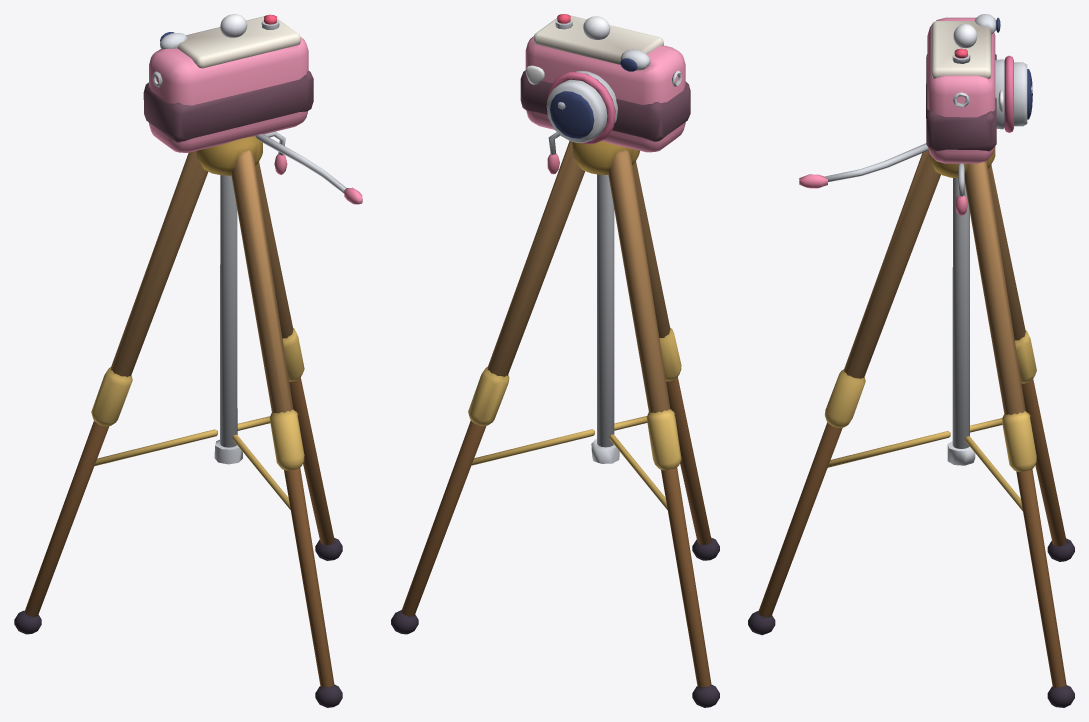
File: prp_photo_tripod.glb
3 views of the same model, side by side, from view 1: azimuth 30°, elevation 25°; view 2: azimuth 150°, elevation 25°; view 3: azimuth 270°, elevation 25° (orthographic).
Parts seen in each view (by area): view 1: SM_prp_photo_tripod_legs, SM_prp_photo_tripod_legs_metal, SM_prp_photo_tripod_head_gloss, SM_prp_photo_tripod_head, SM_prp_photo_tripod_head_metal; view 2: SM_prp_photo_tripod_legs, SM_prp_photo_tripod_legs_metal, SM_prp_photo_tripod_head_gloss, SM_prp_photo_tripod_head, SM_prp_photo_tripod_head_metal; view 3: SM_prp_photo_tripod_legs, SM_prp_photo_tripod_legs_metal, SM_prp_photo_tripod_head_gloss, SM_prp_photo_tripod_head, SM_prp_photo_tripod_head_metal.
Part boxes in pixels (bbox=[...]): SM_prp_photo_tripod_legs: bbox=[14, 150, 342, 707]; SM_prp_photo_tripod_legs_metal: bbox=[91, 131, 304, 509]; SM_prp_photo_tripod_head_gloss: bbox=[149, 14, 308, 152]; SM_prp_photo_tripod_head: bbox=[143, 70, 362, 204]; SM_prp_photo_tripod_head_metal: bbox=[152, 20, 346, 193]; SM_prp_photo_tripod_legs: bbox=[391, 141, 719, 707]; SM_prp_photo_tripod_legs_metal: bbox=[468, 132, 681, 509]; SM_prp_photo_tripod_head_gloss: bbox=[525, 14, 685, 152]; SM_prp_photo_tripod_head: bbox=[520, 70, 690, 144]; SM_prp_photo_tripod_head_metal: bbox=[546, 19, 681, 142]; SM_prp_photo_tripod_legs: bbox=[748, 150, 1074, 707]; SM_prp_photo_tripod_legs_metal: bbox=[824, 146, 1036, 510]; SM_prp_photo_tripod_head_gloss: bbox=[927, 17, 1032, 163]; SM_prp_photo_tripod_head: bbox=[799, 54, 1013, 188]; SM_prp_photo_tripod_head_metal: bbox=[825, 14, 1027, 181].
Bounding box in the file's own units: 0.9343 × 1.69 × 0.8182.
